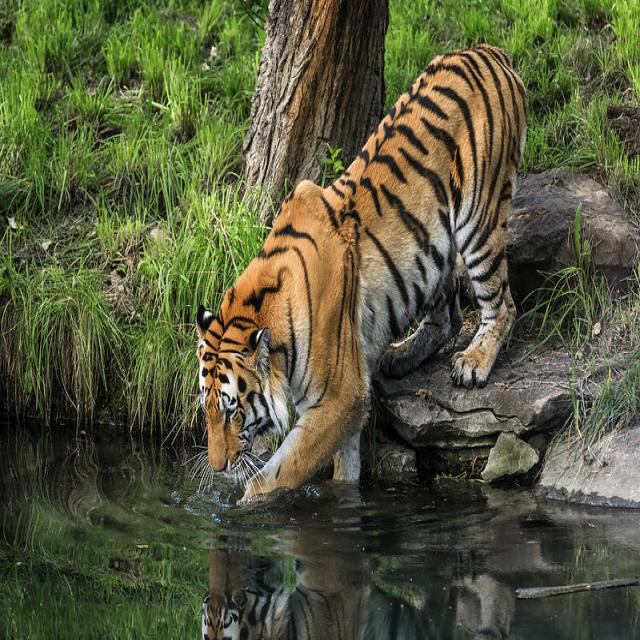Tiger: (194, 41, 528, 509)
